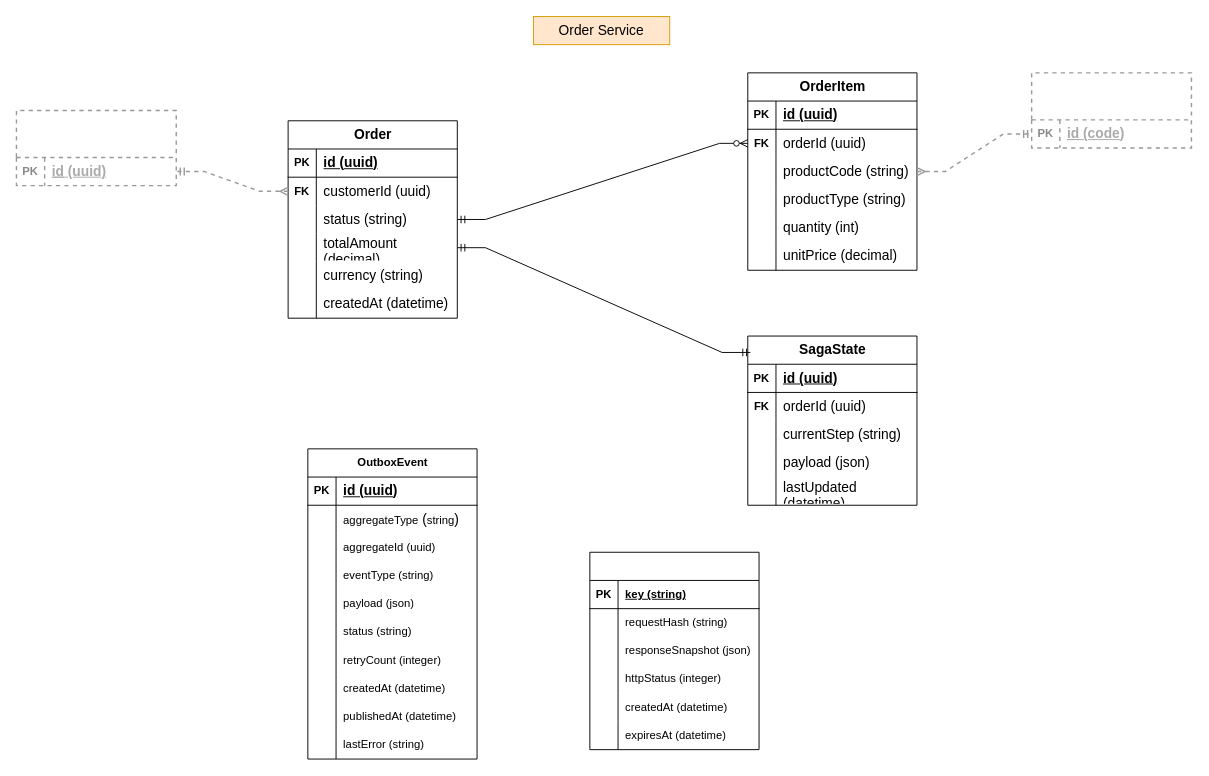
This 1209x776 diagram has some shape labels left out. The shapes that lost their labels are listed below. From the top down, each one's box as (x1, y1, x2, y2) in pixels, then its label:
(1031, 72, 1192, 148): Tariff / Addon (product-catalog-service)
(15, 109, 177, 186): Customer (customer-service)
(589, 551, 759, 750): IdempotencyKey
